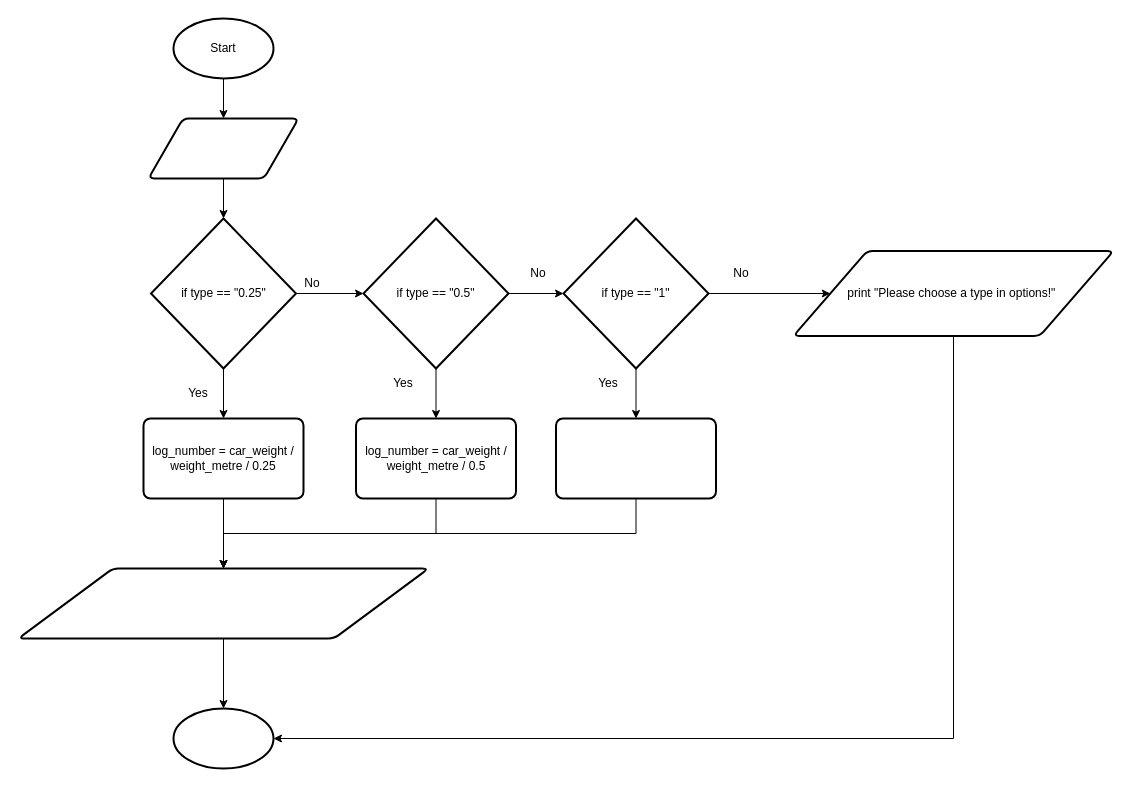
Some shapes in this 1131 by 786 pixel diagram are drawn without their labels. The centre of each missing label's shape, as x and y in pixels:
get type: point (223, 148)
log_number = car_weight / weight_metre / 1: point (635, 458)
print "log_number logs need to placed on the truck.": point (223, 603)
Stop: point (223, 738)
